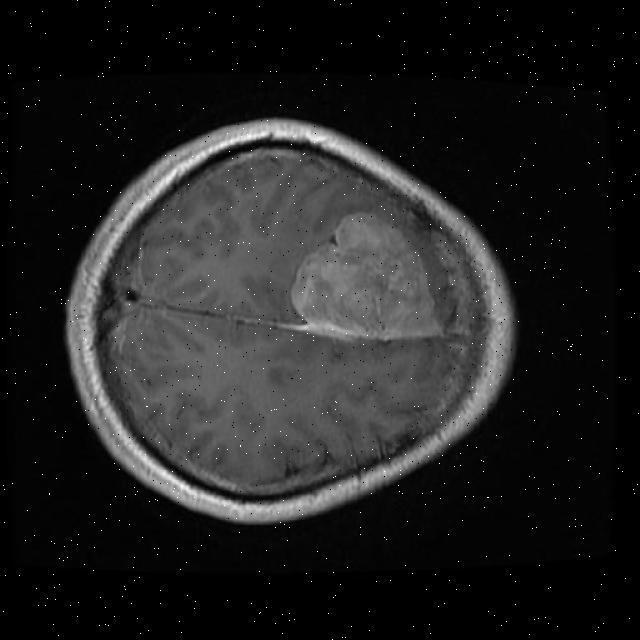Meningioma: (291, 212, 444, 340)
